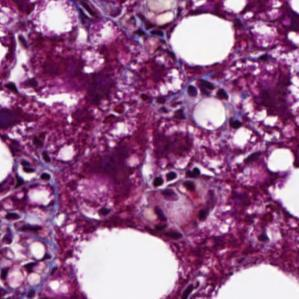inflammation: (146, 160, 204, 192), (182, 78, 233, 102)
